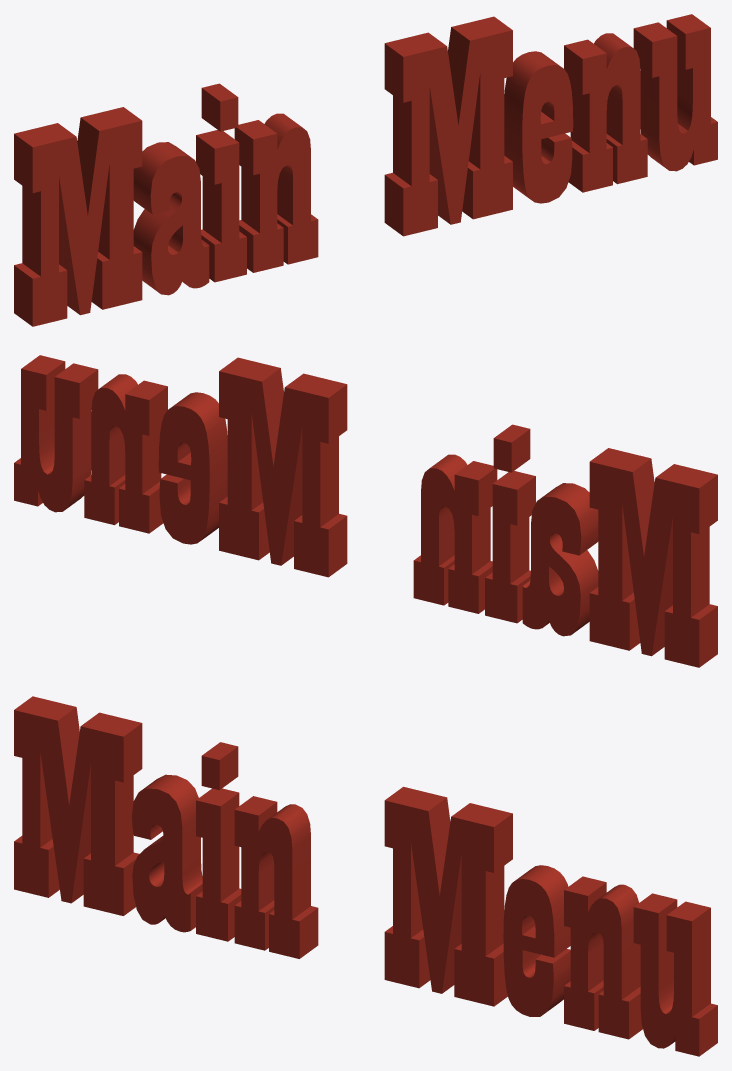
File: MainMenuText.fbx
The picture shows the model from 3 angles, top to bottom: view 1: azimuth 30°, elevation 25°; view 2: azimuth 150°, elevation 25°; view 3: azimuth 330°, elevation 25°; orthographic projection.
Visible parts, largest first — view 1: typeMesh3; view 2: typeMesh3; view 3: typeMesh3.
Boxes of the visible parts, x1=… form: typeMesh3: x1=14, y1=14, x2=717, y2=326; typeMesh3: x1=14, y1=355, x2=717, y2=667; typeMesh3: x1=14, y1=696, x2=717, y2=1056.
Bounding box in the file's own units: 11.06 × 2.8 × 0.5246.
